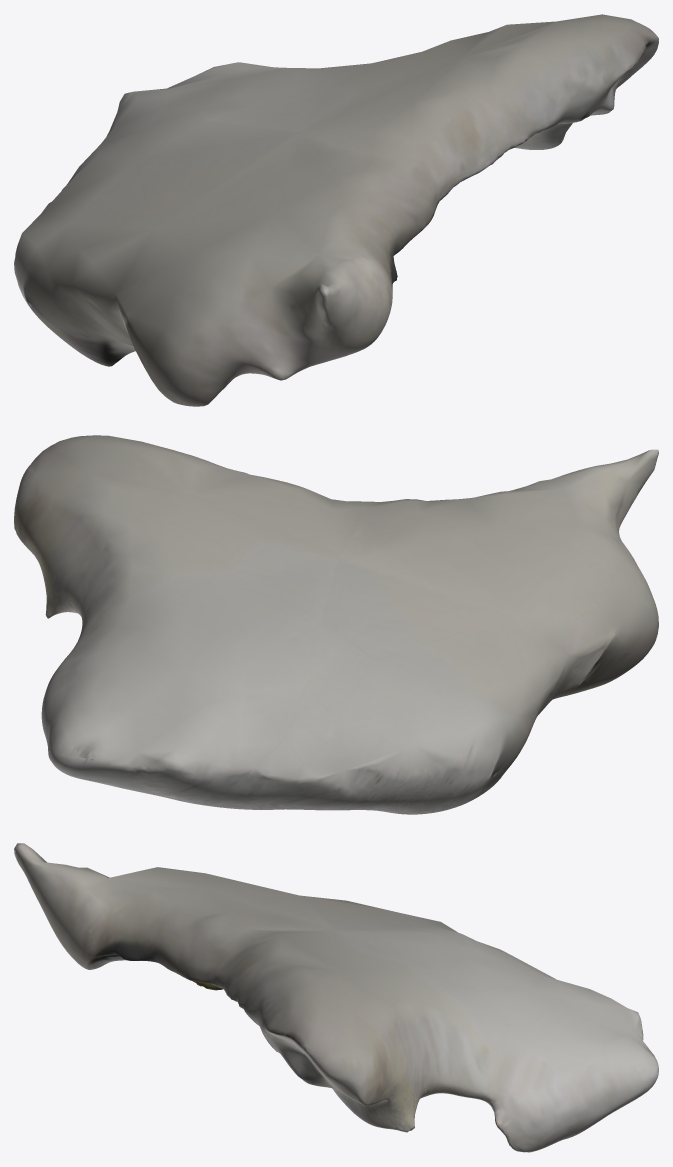
3 renders of one model, top to bottom at view 1: azimuth 30°, elevation 25°; view 2: azimuth 150°, elevation 25°; view 3: azimuth 270°, elevation 25°, orthographic. The views are drawn at different scales.
Size of the model in its own units: 0.1585 by 0.0677 by 0.1763.
Materials: 1 (1 with a texture image).
